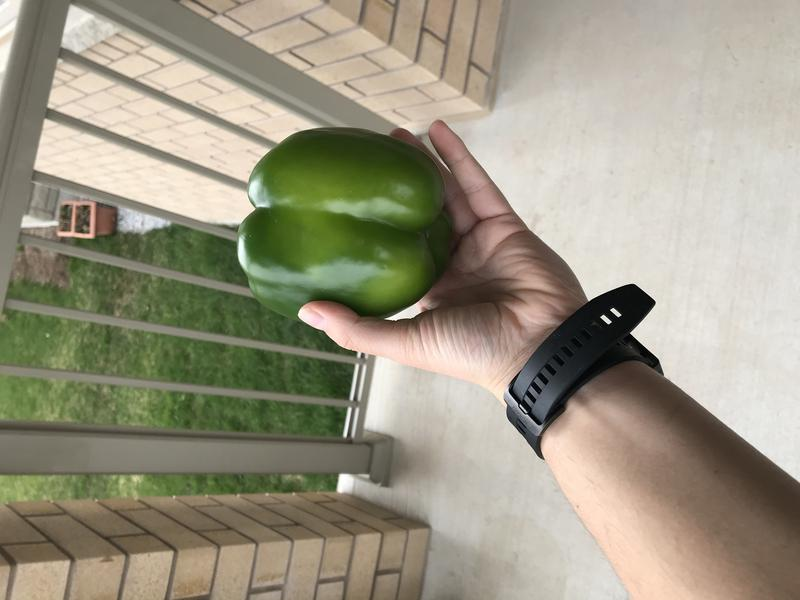green_pepper: (229, 116, 467, 331)
